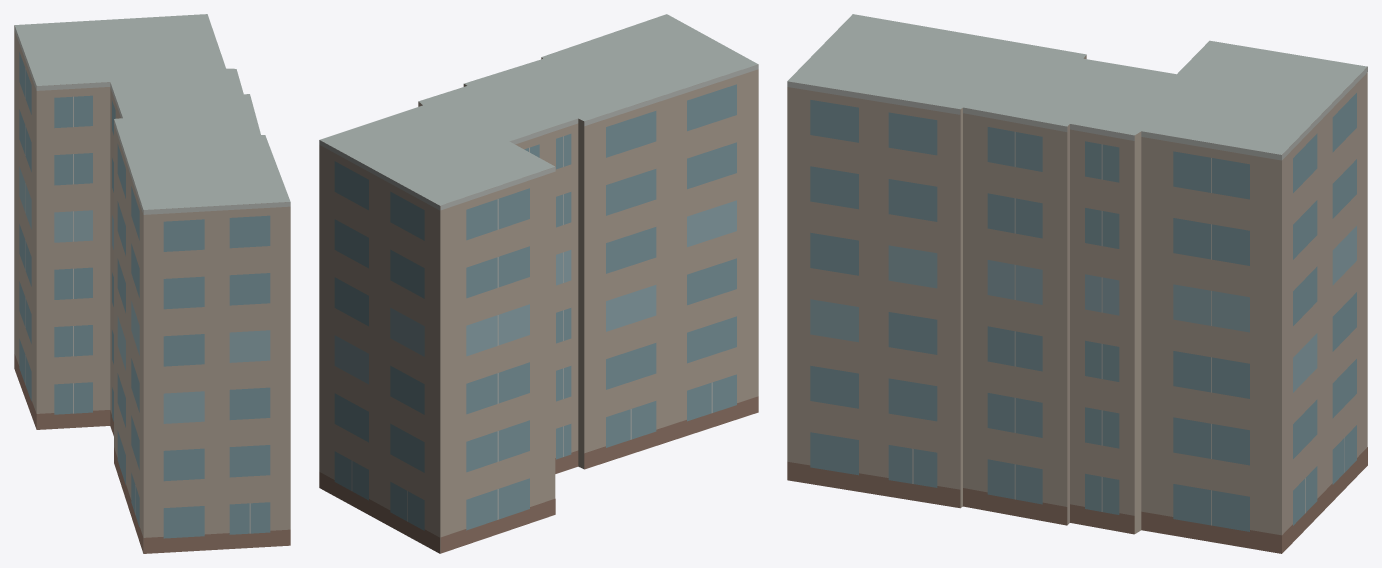
Rendered from survey-upis-32618504.glb.
The picture shows the model from 3 angles, left to right: view 1: azimuth 30°, elevation 25°; view 2: azimuth 150°, elevation 25°; view 3: azimuth 270°, elevation 25°; orthographic projection. The views are drawn at different scales.
Visible parts, largest first — view 1: survey-upis-32618504.tmp; view 2: survey-upis-32618504.tmp; view 3: survey-upis-32618504.tmp.
Part boxes in pixels (x1=…): survey-upis-32618504.tmp: x1=14, y1=14, x2=290, y2=553; survey-upis-32618504.tmp: x1=319, y1=14, x2=758, y2=553; survey-upis-32618504.tmp: x1=787, y1=14, x2=1367, y2=553.
Size of the model in its own units: 13.08 by 17.25 by 22.76.
